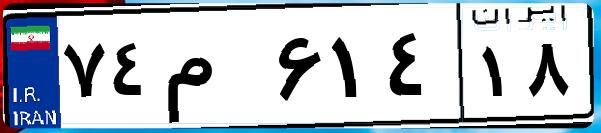1: (330, 28, 385, 110), (475, 38, 525, 113)
4: (385, 28, 445, 110), (110, 28, 158, 98)
6: (270, 28, 330, 110)
7: (57, 26, 110, 100)
8: (525, 38, 570, 115)
م: (158, 20, 270, 120)
